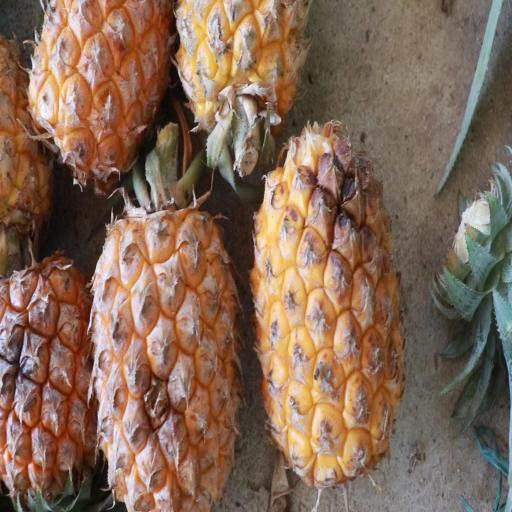Pineapple - v8 v1: (243, 116, 407, 495), (89, 164, 245, 512), (22, 1, 177, 188), (0, 245, 107, 512), (172, 0, 313, 156)
